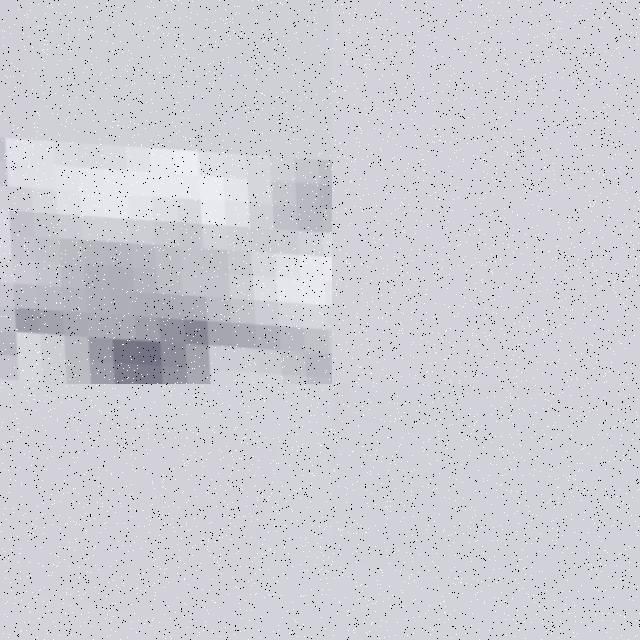drone: (0, 0, 332, 384)
